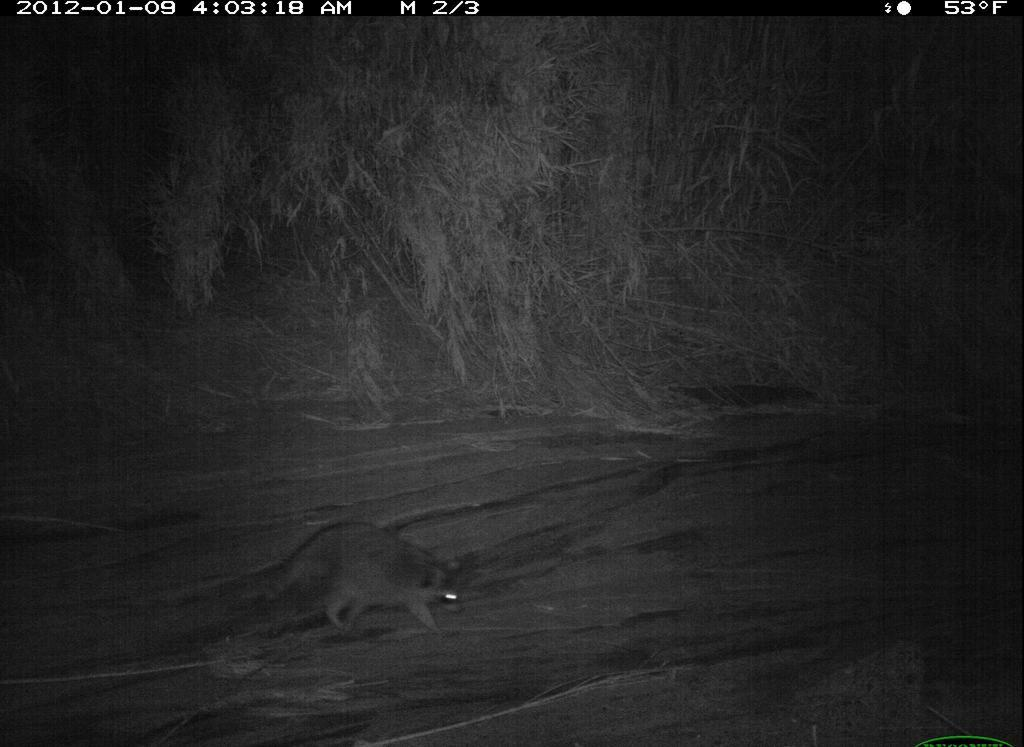raccoon: (208, 523, 489, 671)
